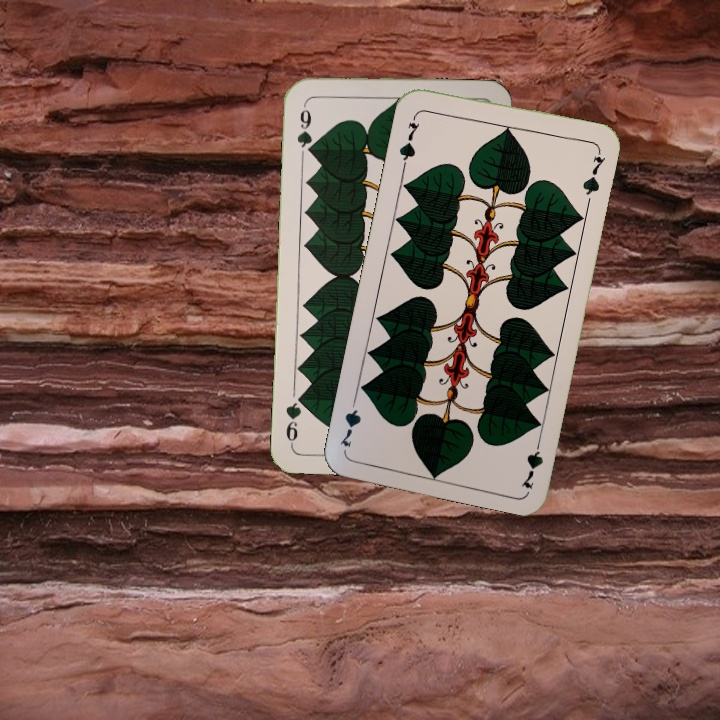G7: (517, 432, 546, 491), (395, 110, 423, 168)
G9: (293, 98, 315, 157)
